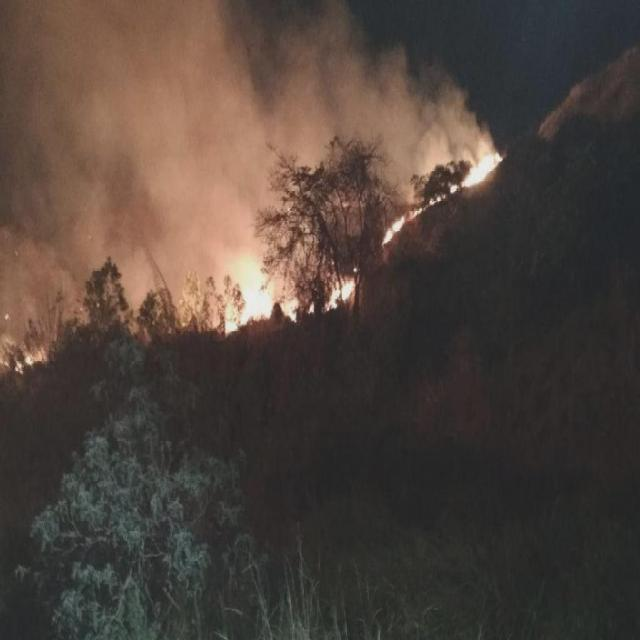Fire: (374, 128, 504, 244), (222, 258, 358, 334), (1, 336, 52, 374)
Smoke: (2, 0, 274, 254), (280, 11, 470, 140), (0, 258, 224, 344)
